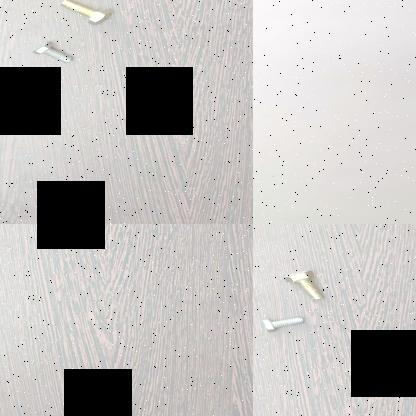Bolts: (280, 270, 330, 301), (56, 0, 112, 27), (28, 39, 76, 65), (256, 313, 310, 333)
